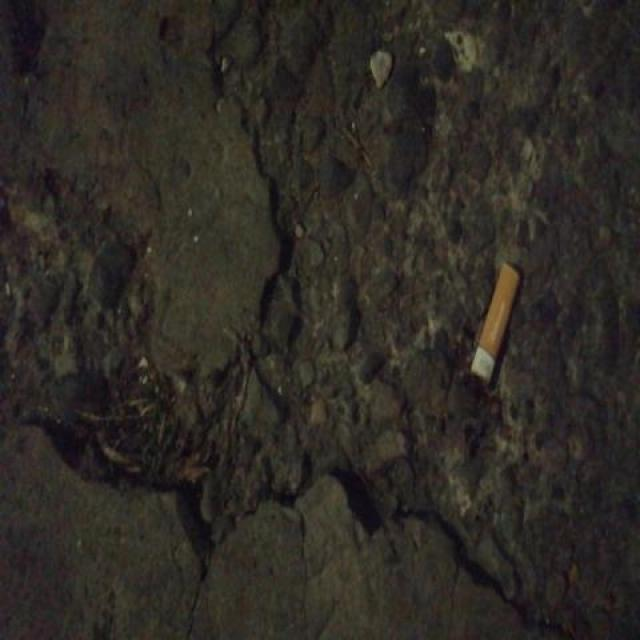non-organic waste: (466, 257, 523, 388)
